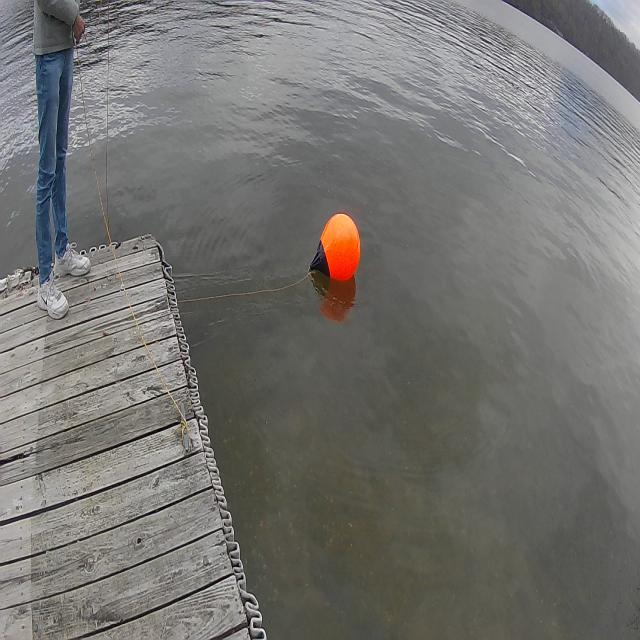Buoy: (307, 200, 367, 307)
